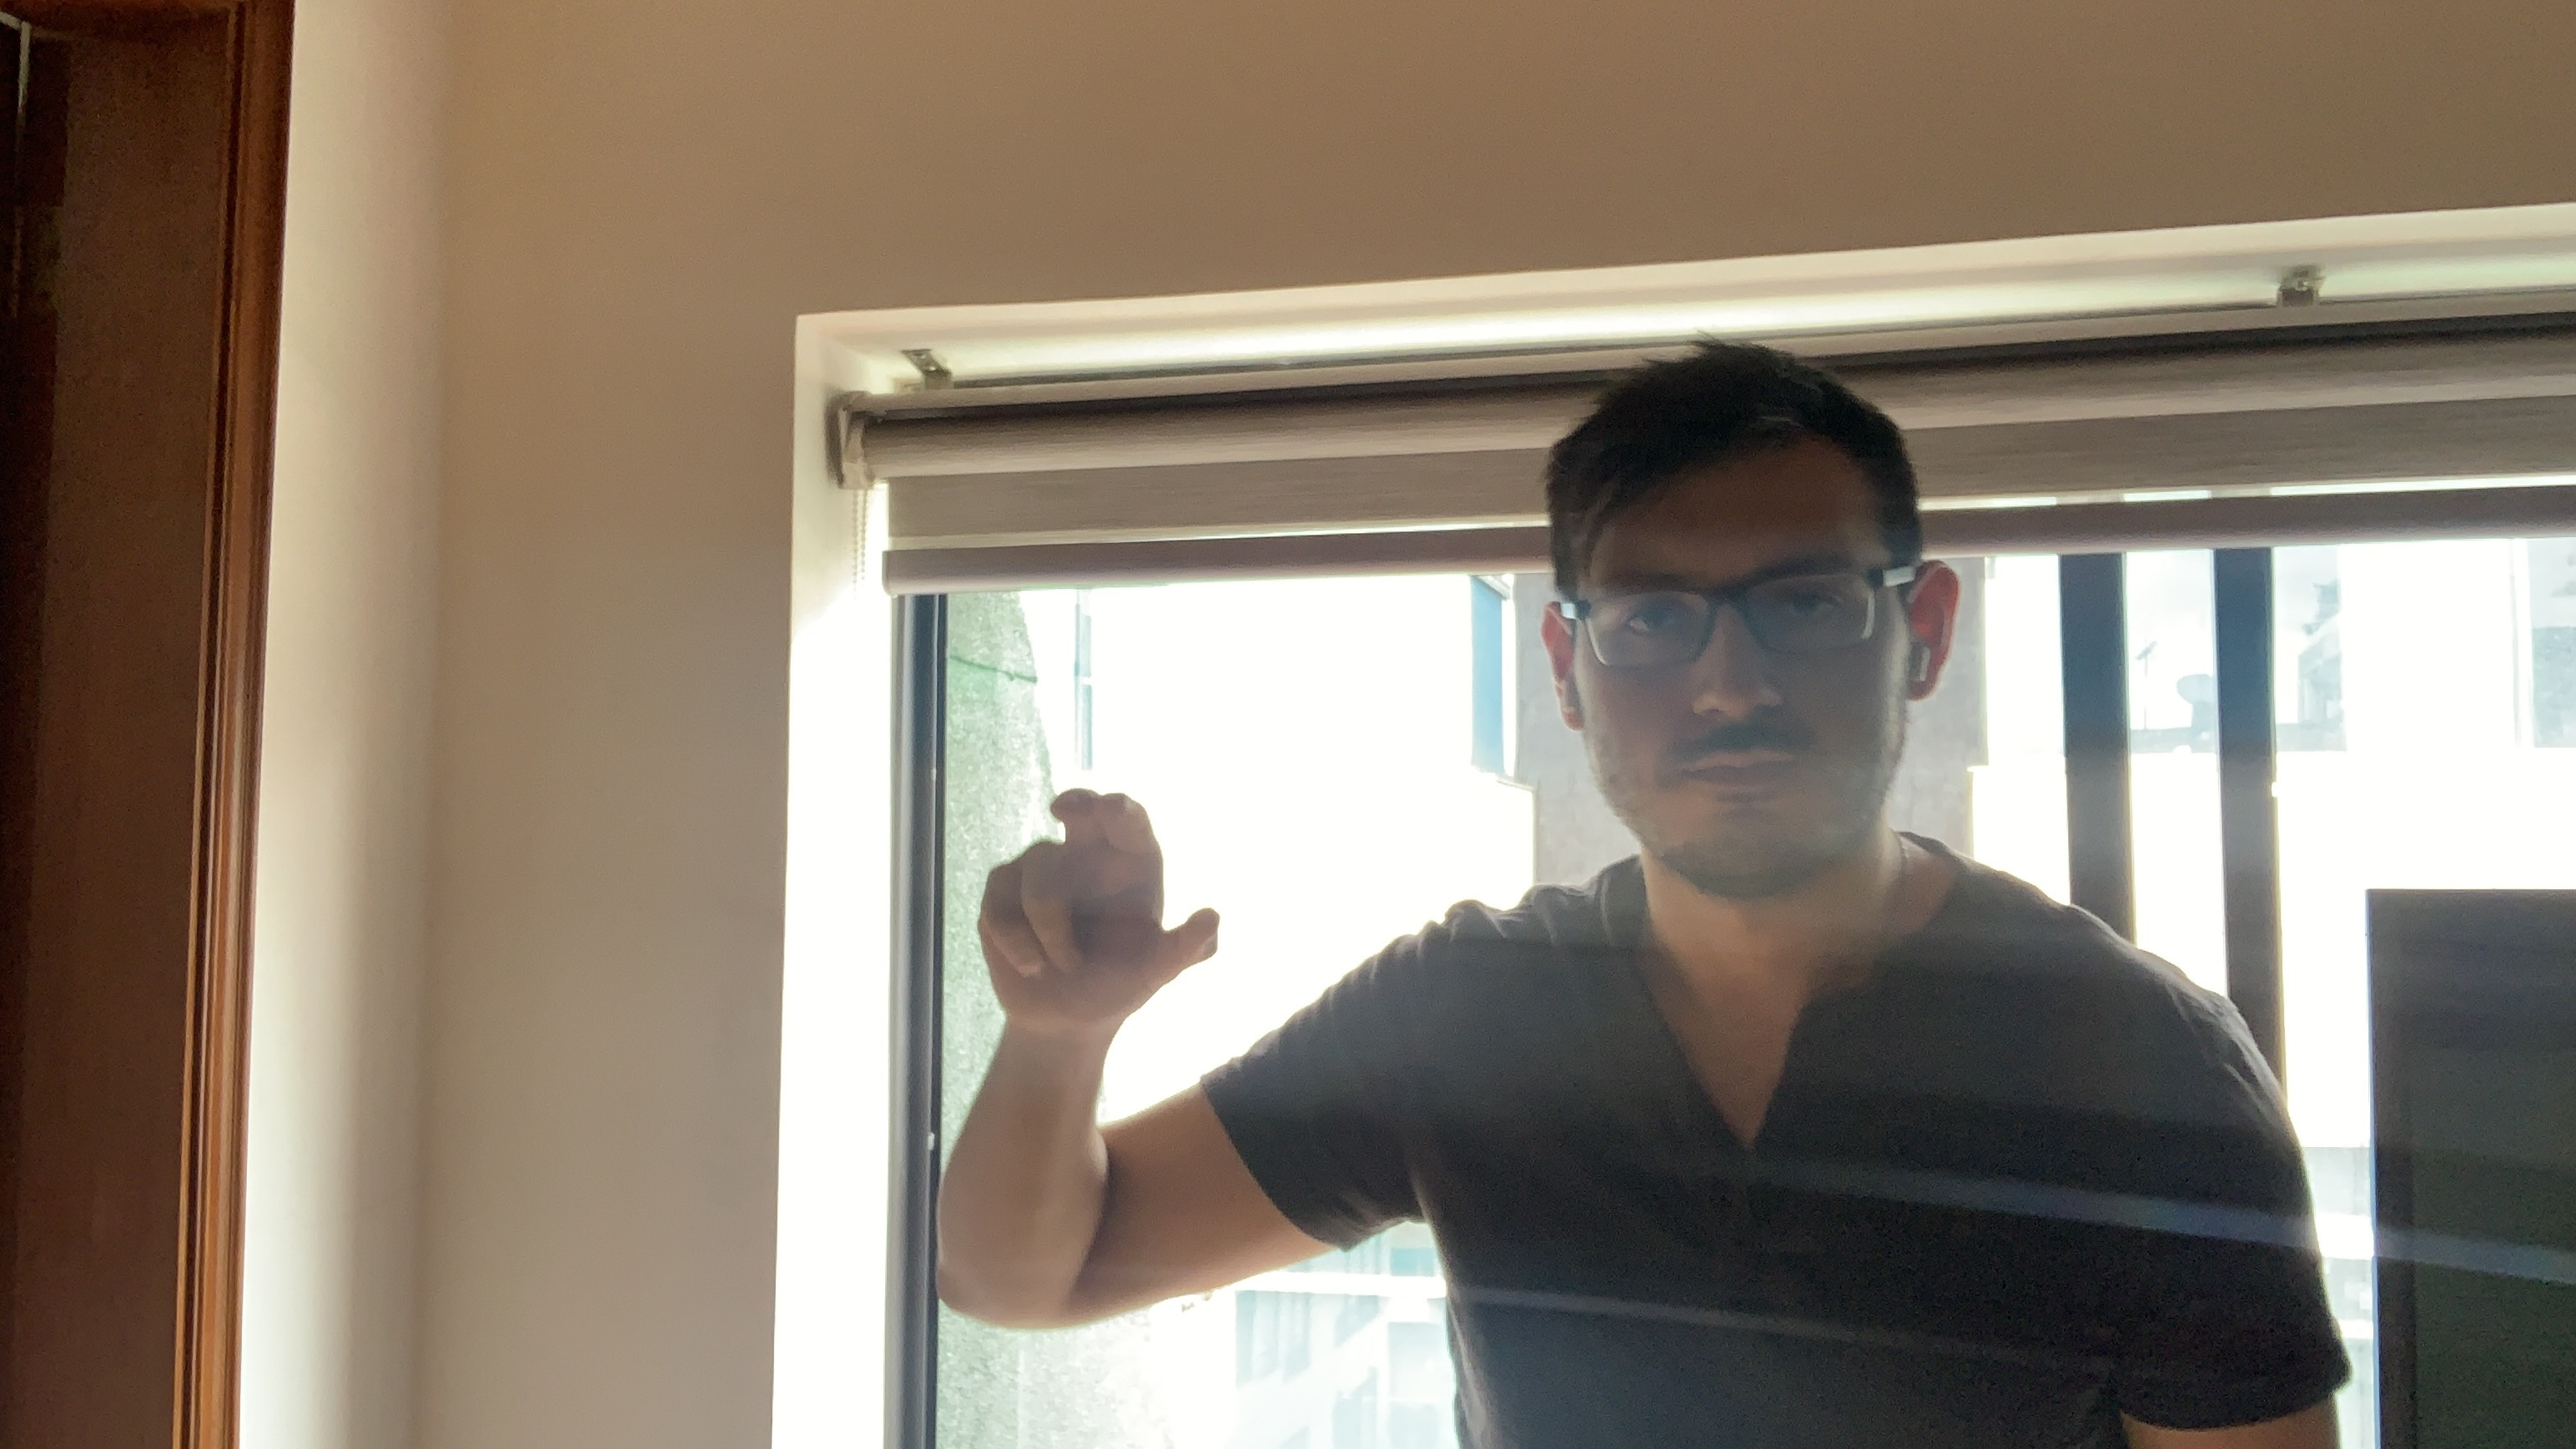No: (966, 777, 1230, 1042)
